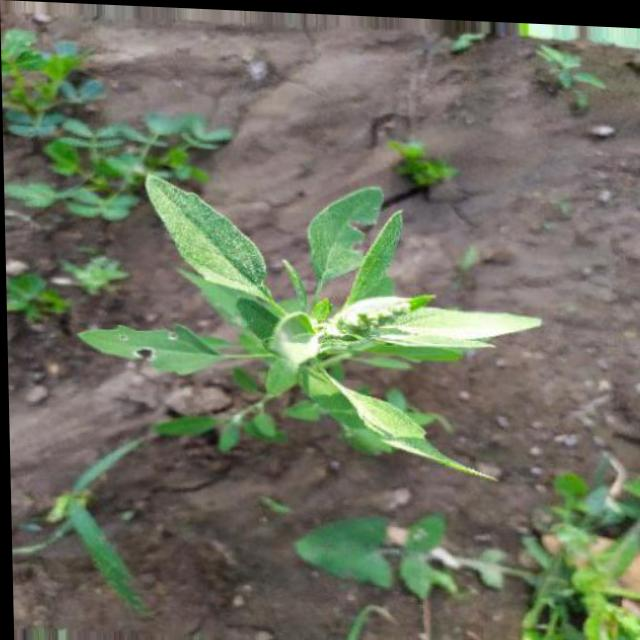weed: (83, 164, 563, 499)
